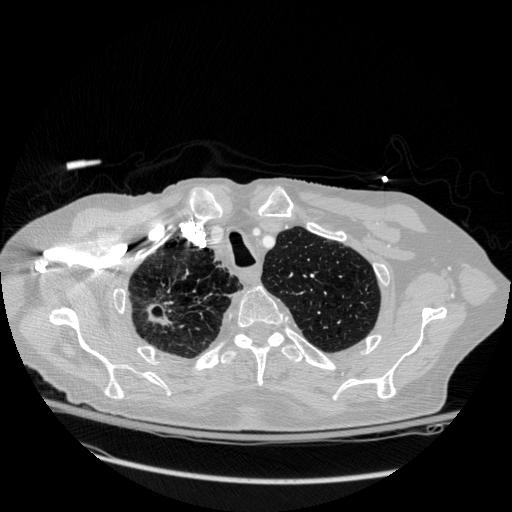nodule: (145, 296, 172, 323)
